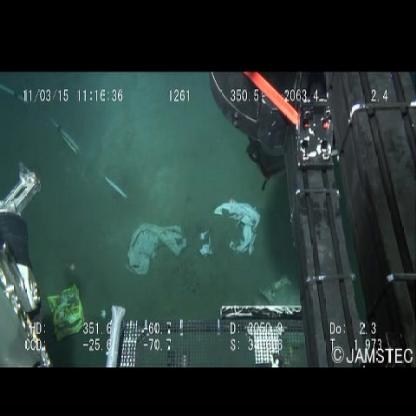Rov: (207, 72, 416, 300), (105, 303, 416, 366), (1, 157, 54, 366)
Rác: (198, 193, 266, 278), (122, 220, 189, 283), (44, 283, 88, 344)
